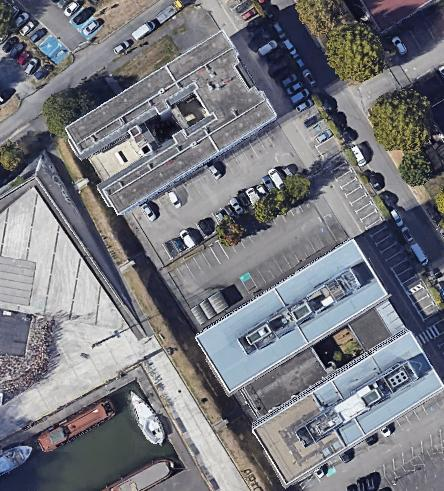immeuble: (61, 28, 279, 219), (247, 326, 444, 488), (194, 237, 388, 394)
